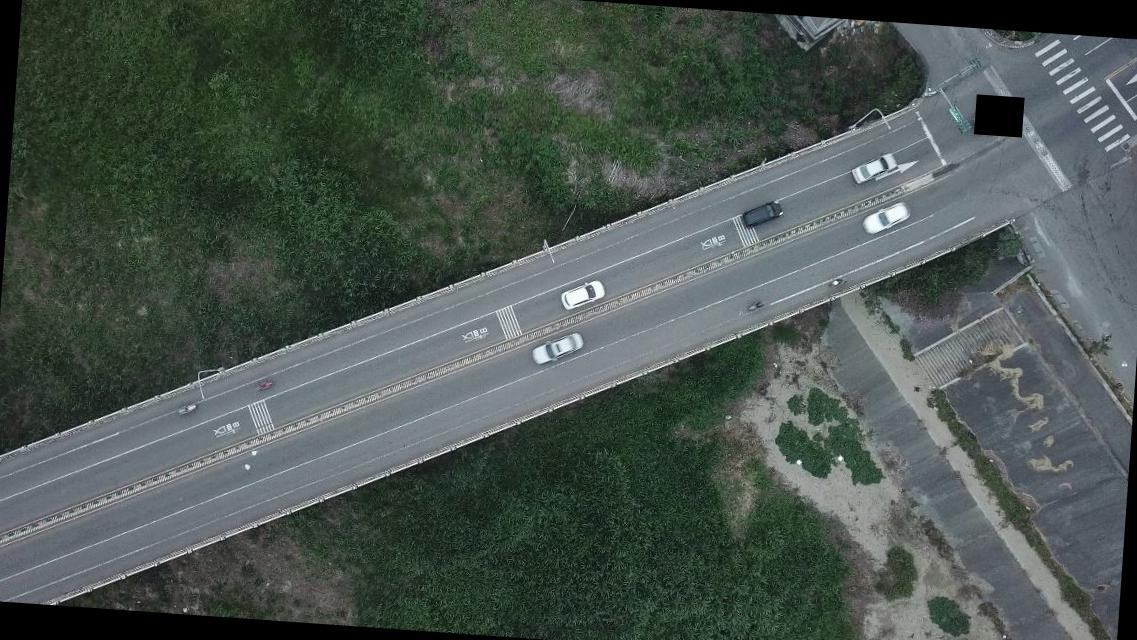vehicle: (528, 331, 586, 368), (861, 198, 914, 236), (558, 276, 604, 316), (851, 148, 898, 186), (741, 197, 783, 230)
